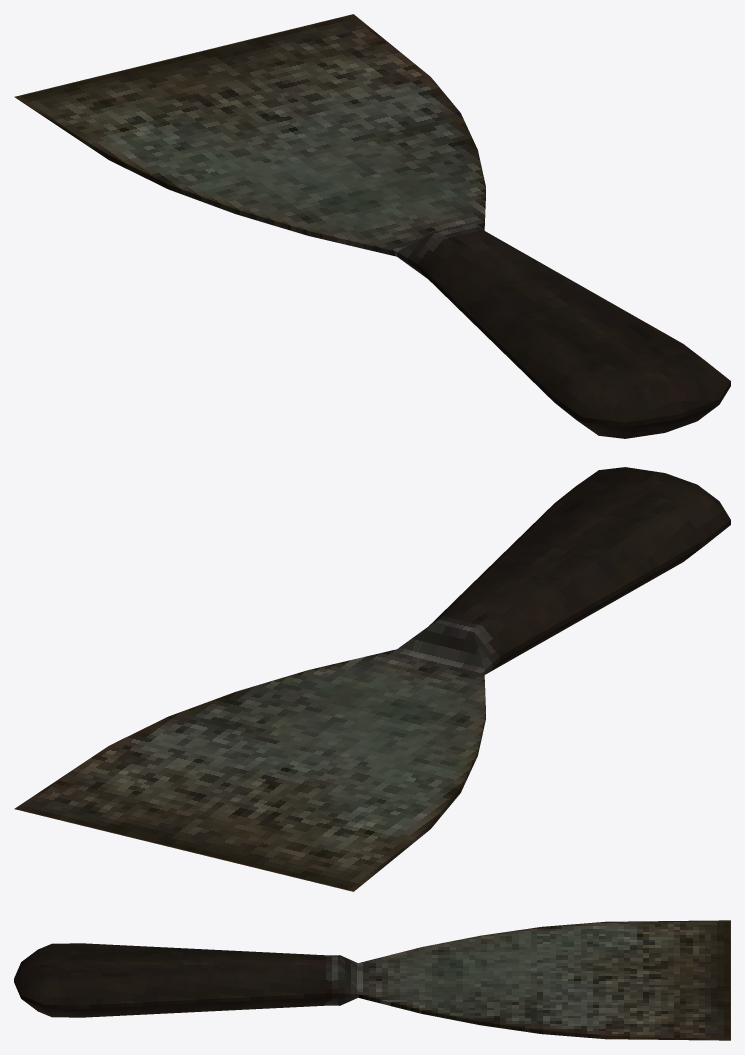
The model's file is misc_tool_mx_5.glb.
3 views of the same model, one above another, from view 1: azimuth 30°, elevation 25°; view 2: azimuth 150°, elevation 25°; view 3: azimuth 270°, elevation 25° (orthographic). The views are drawn at different scales.
Parts seen in each view (by area): view 1: misc_tool_mx_5; view 2: misc_tool_mx_5; view 3: misc_tool_mx_5.
Part boxes in pixels (x1=…): misc_tool_mx_5: x1=14, y1=14, x2=730, y2=438; misc_tool_mx_5: x1=14, y1=467, x2=730, y2=891; misc_tool_mx_5: x1=14, y1=920, x2=730, y2=1040.
Bounding box in the file's own units: 0.1422 × 0.02 × 0.3582.
1 material, 1 textured.
